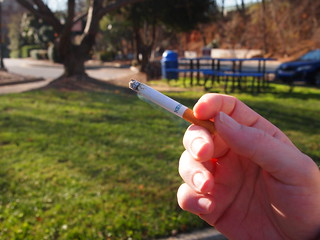cigarette: (127, 76, 218, 135)
